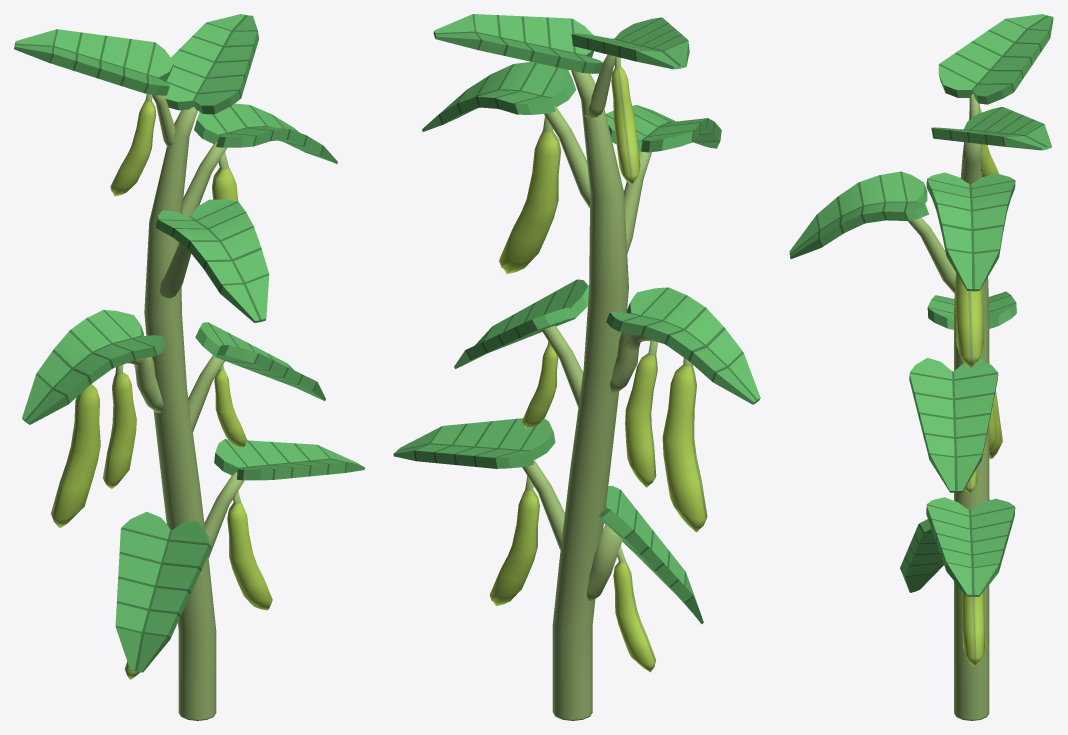
The model's file is BeanPlant.fbx.
The picture shows the model from 3 angles, left to right: view 1: azimuth 30°, elevation 25°; view 2: azimuth 150°, elevation 25°; view 3: azimuth 270°, elevation 25°; orthographic projection. The views are drawn at different scales.
Parts seen in each view (by area): view 1: Cylinder.006, Cylinder.000; view 2: Cylinder.006, Cylinder.000; view 3: Cylinder.006, Cylinder.000.
Boxes of the visible parts, x1,y1,x2,y2 form: Cylinder.006: (14,14,364,720); Cylinder.000: (50,94,272,679); Cylinder.006: (393,14,760,720); Cylinder.000: (489,56,707,672); Cylinder.006: (789,14,1053,720); Cylinder.000: (955,108,1002,666).
Bounding box in the file's own units: 499 × 956 × 359.
